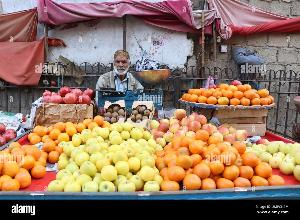apple: (50, 118, 162, 194), (152, 108, 254, 143), (248, 138, 300, 184)
orange: (182, 73, 273, 108)
pomegranate: (37, 80, 98, 108)
